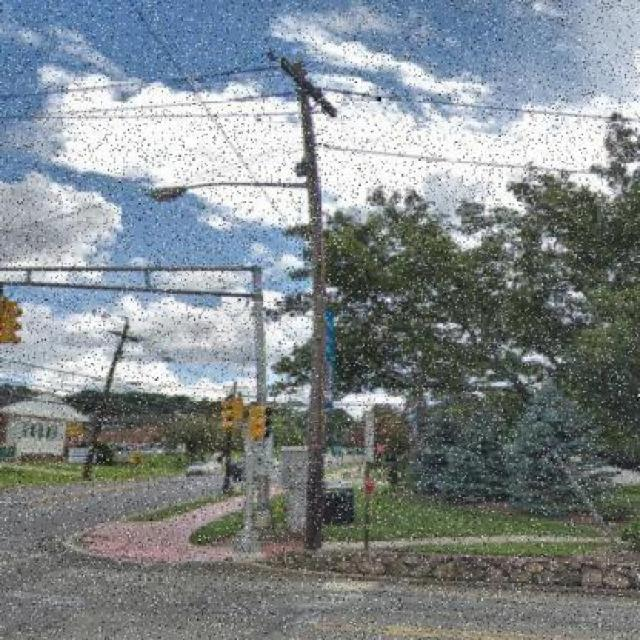pole: (153, 20, 356, 558)
